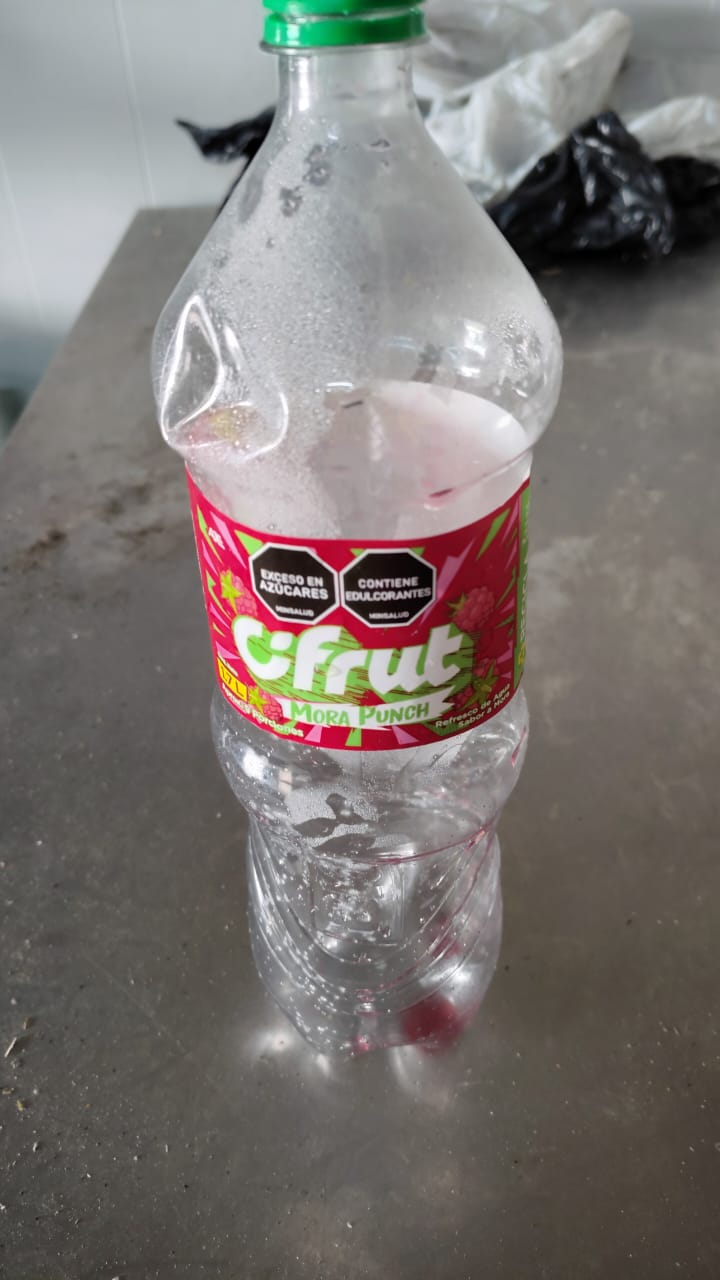Plastico: (146, 0, 561, 1055)
